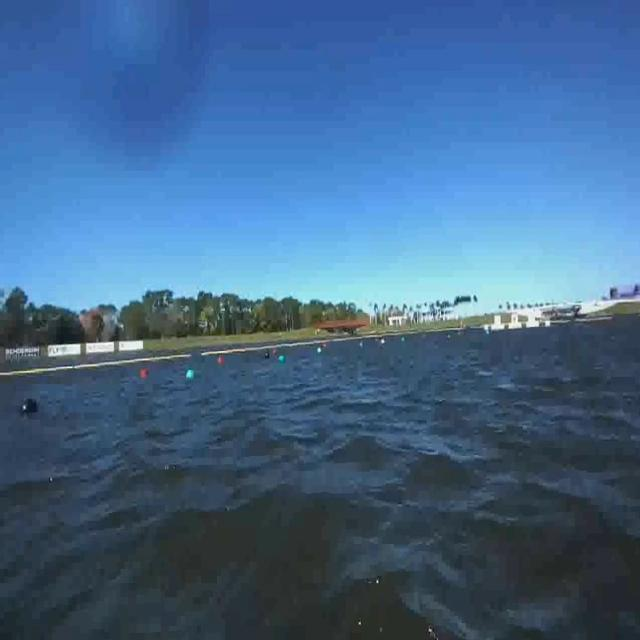black-buoy: (21, 398, 41, 414)
green-buoy: (185, 367, 194, 380)
red-buoy: (140, 368, 154, 382)
